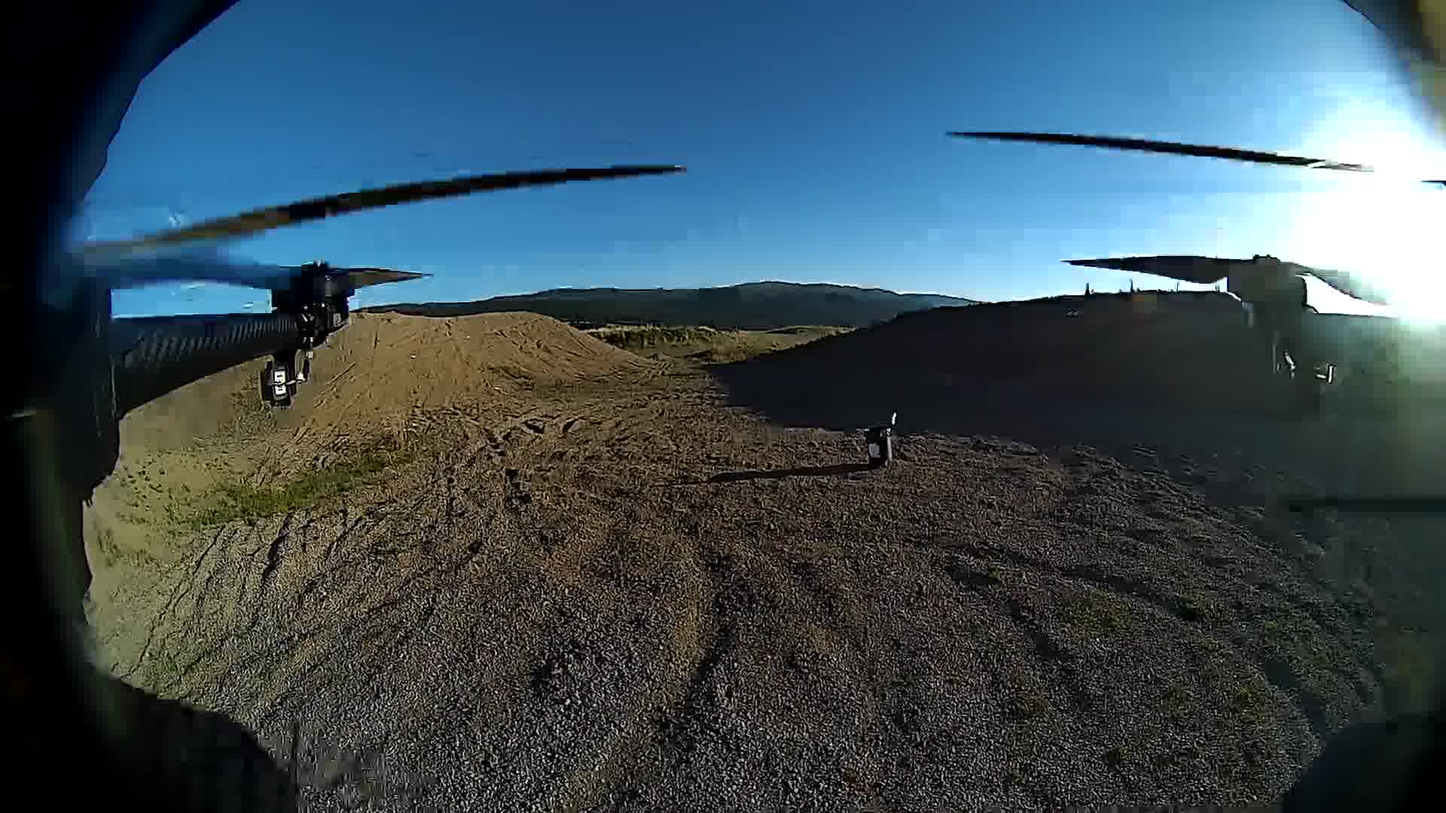Target: (867, 444, 880, 458)
